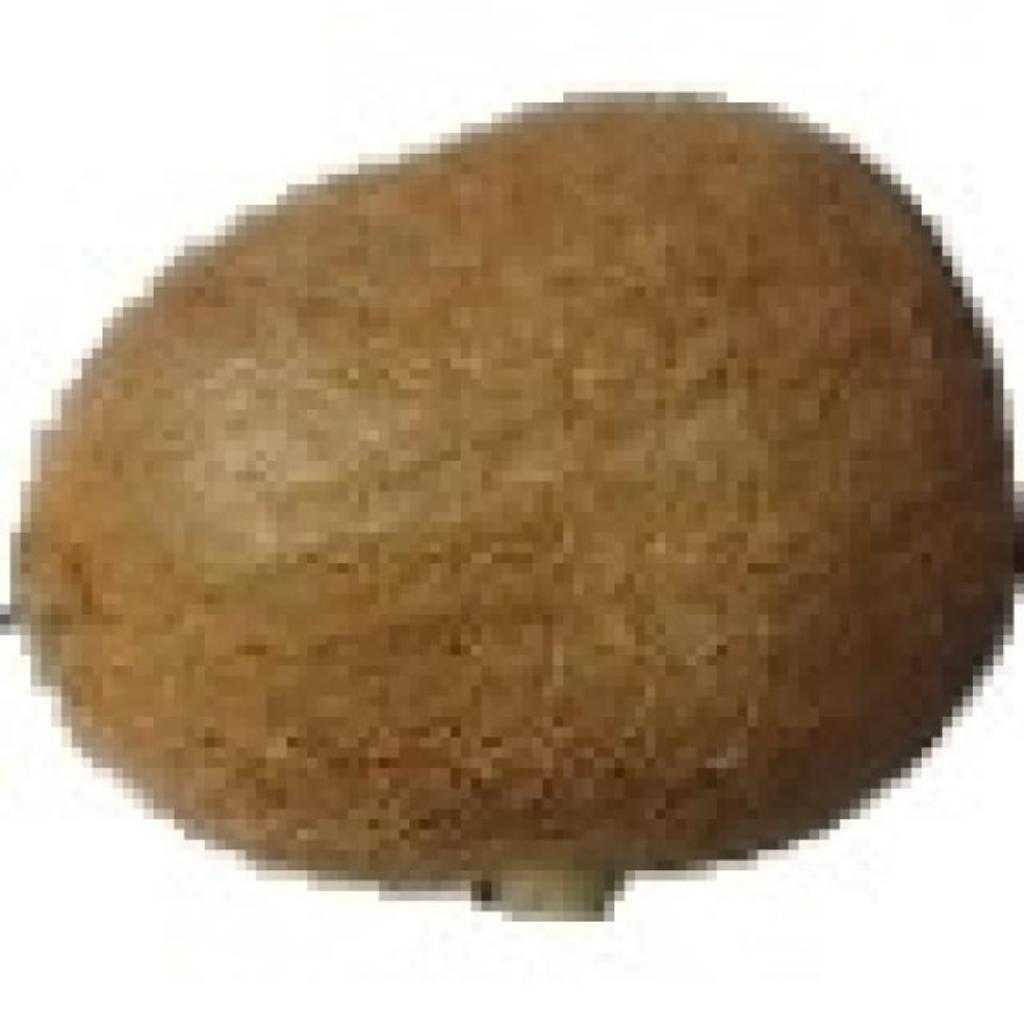kiwi: (10, 82, 993, 891)
